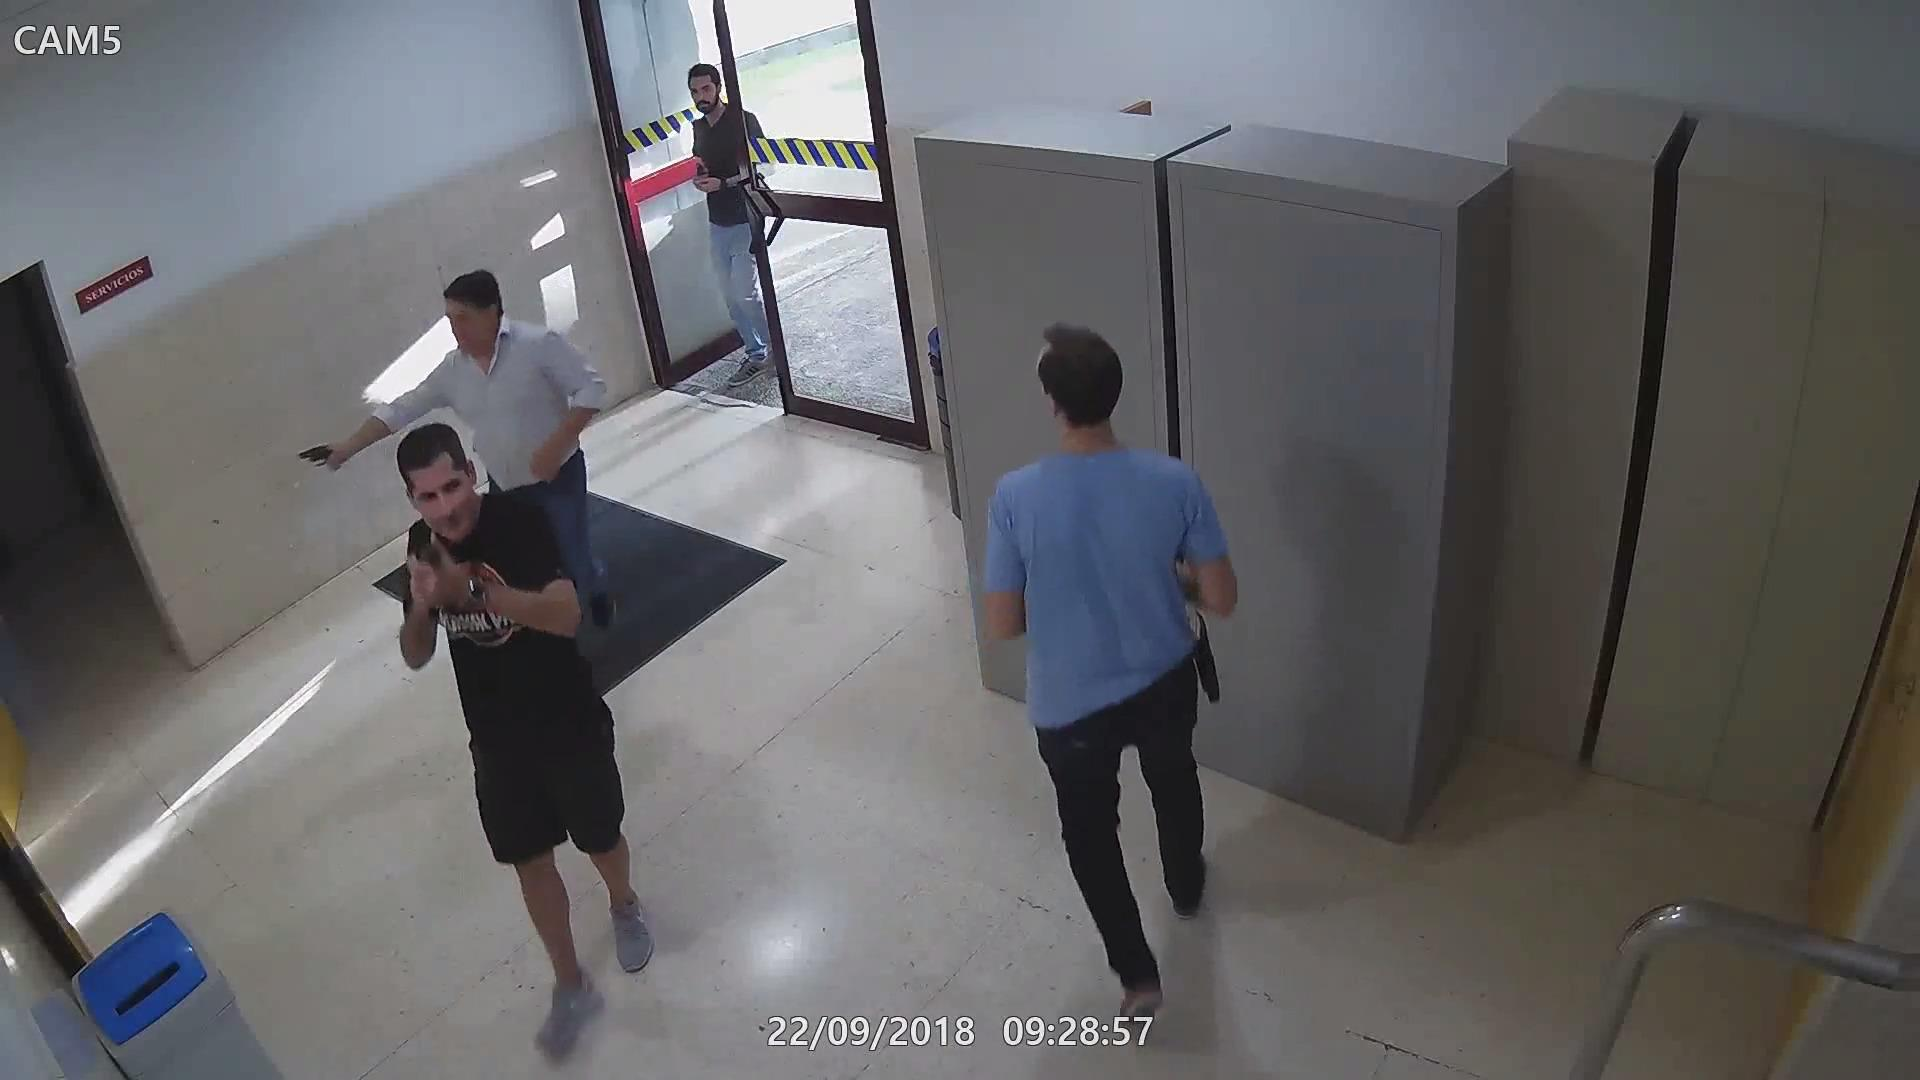Handgun: (407, 527, 456, 617), (293, 440, 351, 471), (688, 154, 709, 200)
